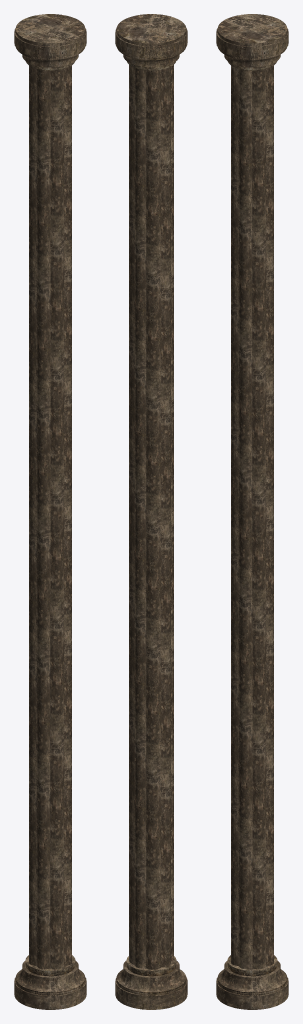
The model's file is materials_5_pillar_long_19.fbx.
3 renders of one model, left to right at view 1: azimuth 90°, elevation 25°; view 2: azimuth 210°, elevation 25°; view 3: azimuth 270°, elevation 25°, orthographic.
Visible parts, largest first — view 1: materials_5_pillar_long_19; view 2: materials_5_pillar_long_19; view 3: materials_5_pillar_long_19.
Part boxes in pixels (x1,y1,x2,y2): materials_5_pillar_long_19: (14, 14, 86, 1009); materials_5_pillar_long_19: (115, 14, 187, 1009); materials_5_pillar_long_19: (216, 14, 288, 1009).
Size of the model in its own units: 67.61 by 998 by 67.61.
